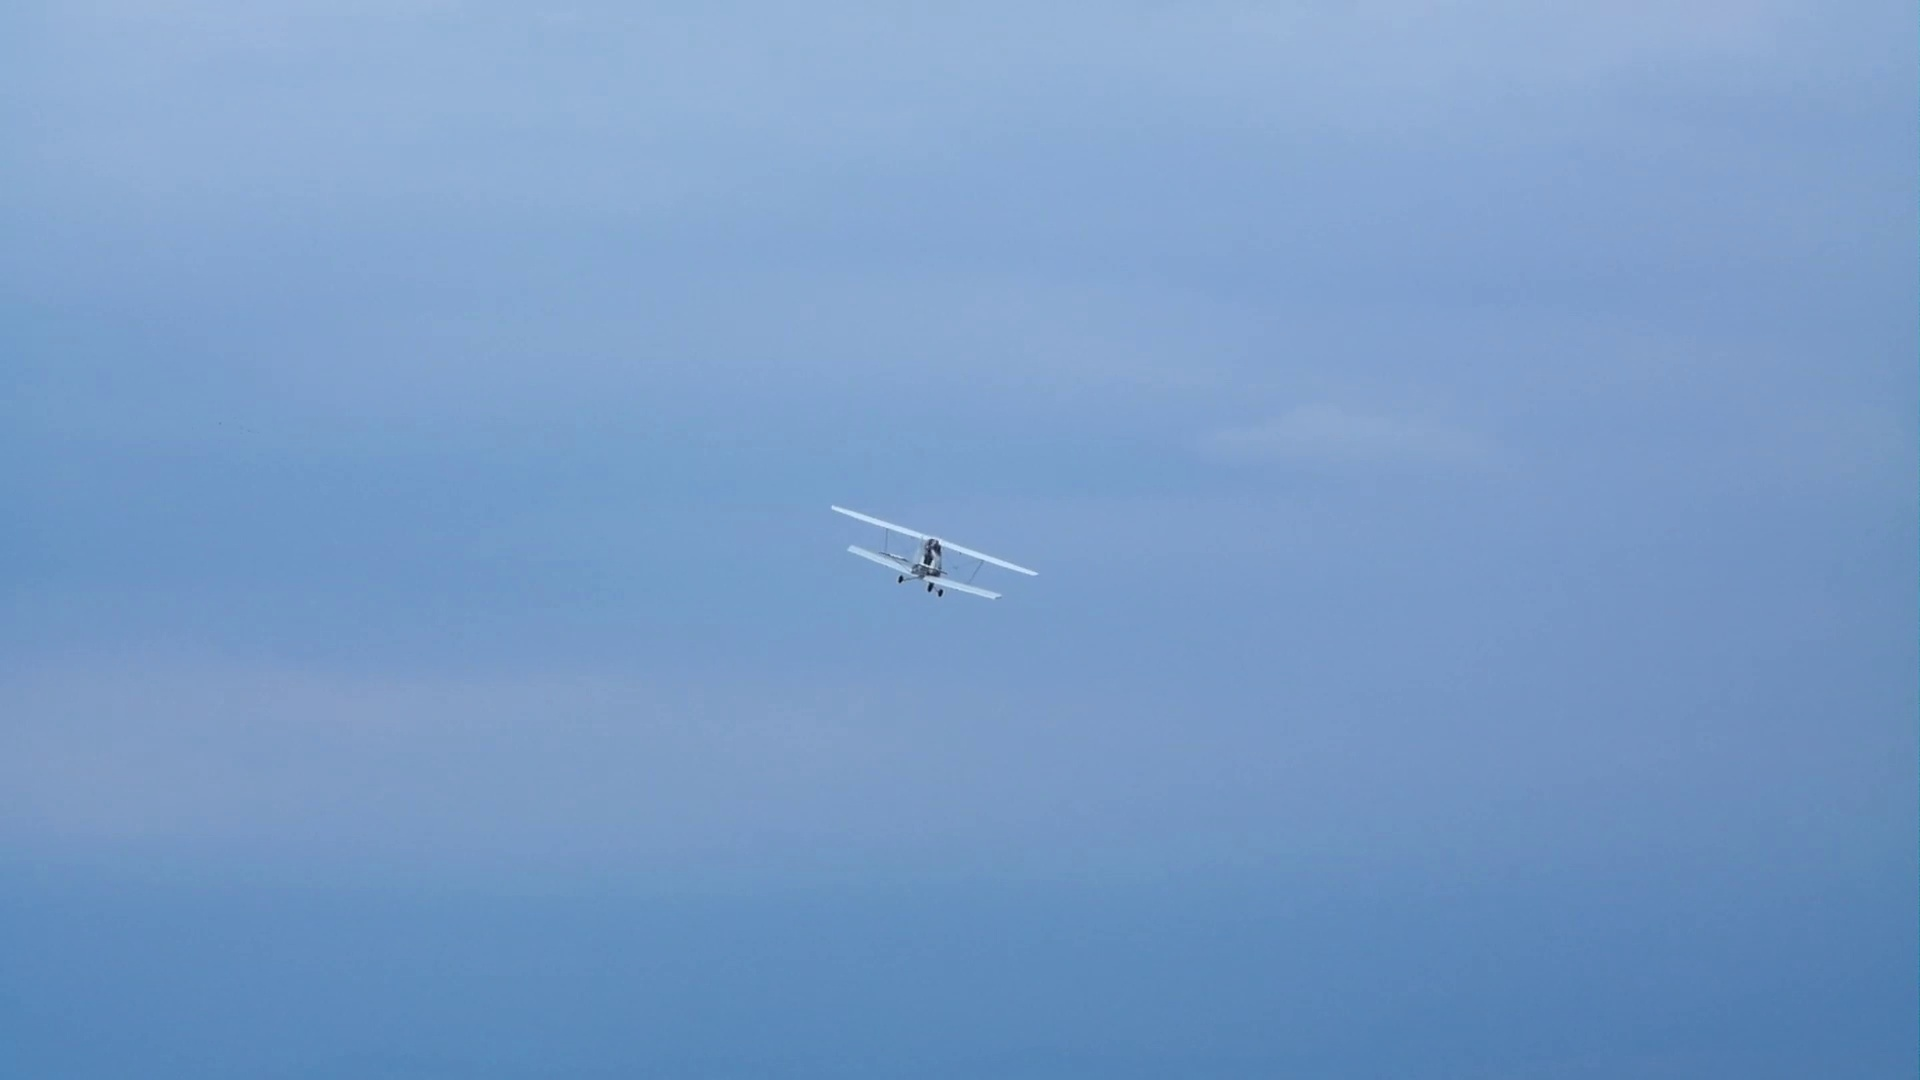plane: (829, 500, 1040, 601)
